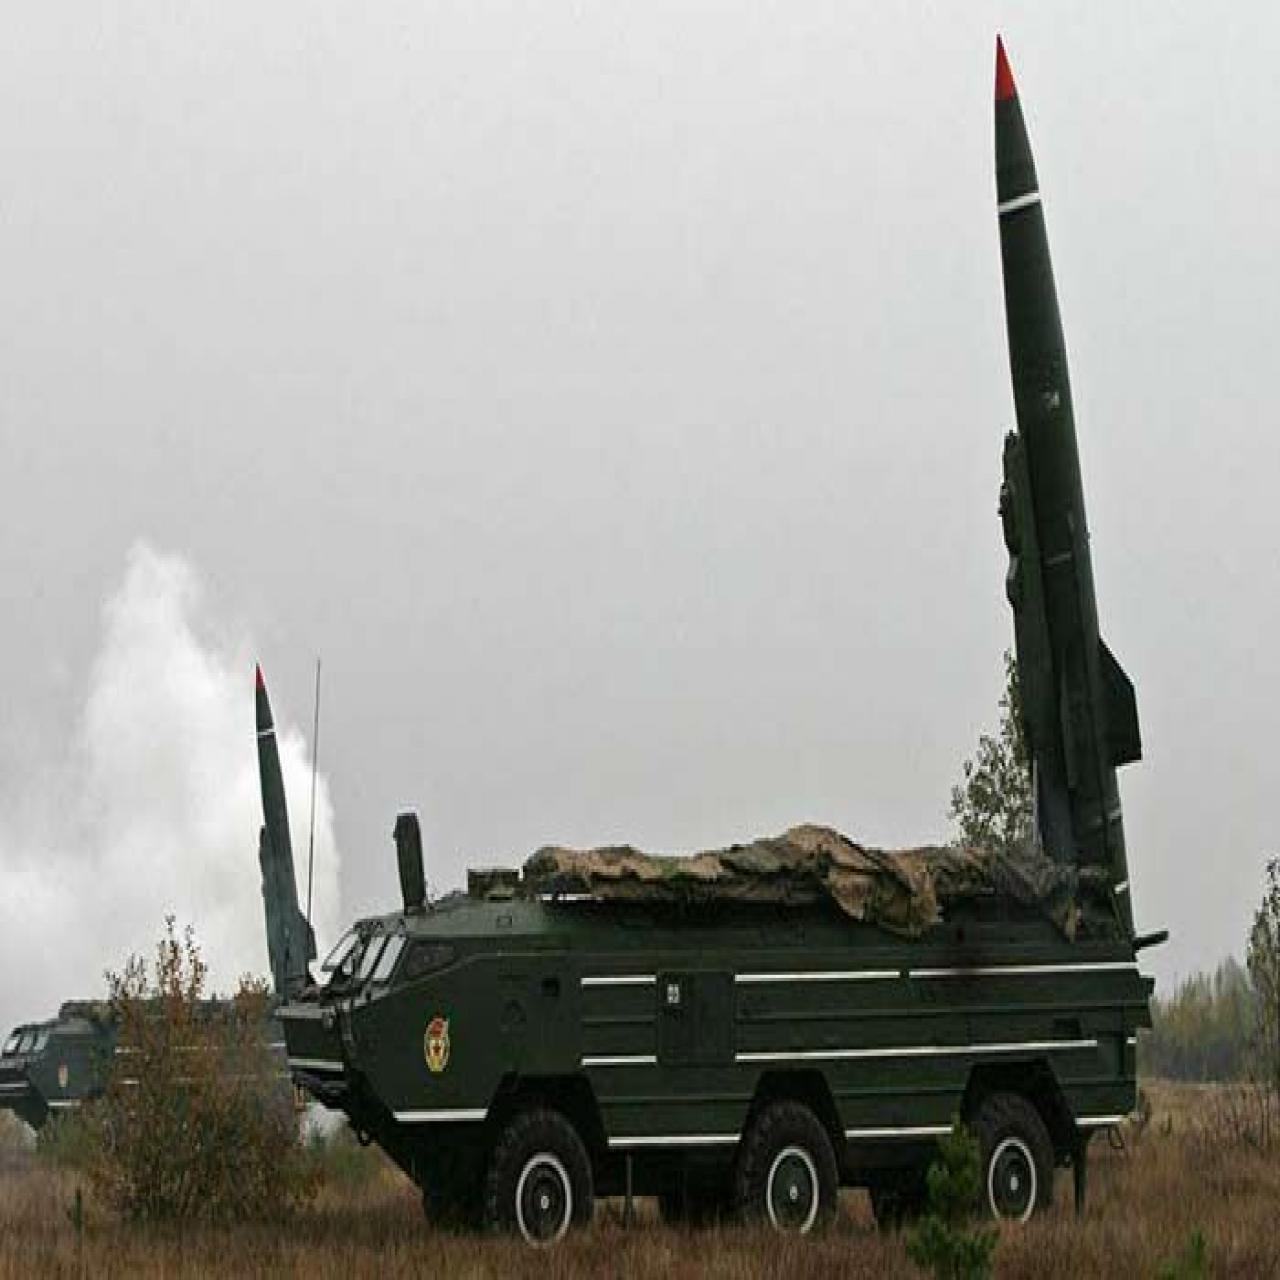MIL_Veh: (300, 43, 1143, 1218), (4, 655, 327, 1159)
